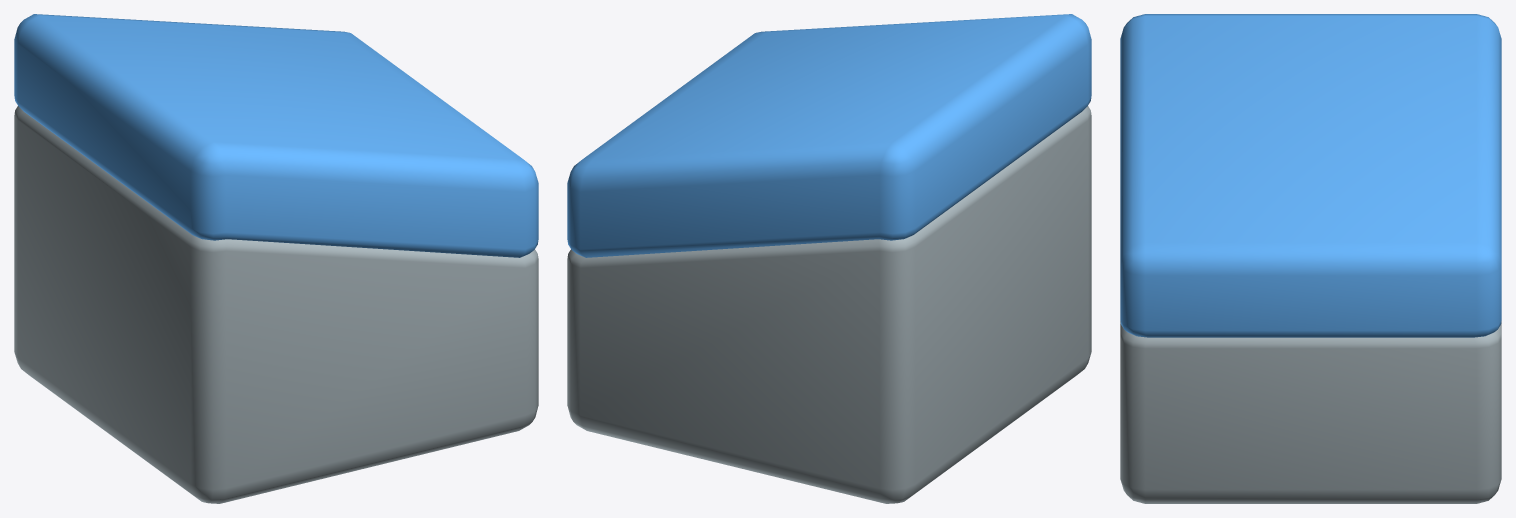
The model's file is tileSlopeMediumHigh_teamBlue.glb.
3 views of the same model, side by side, from view 1: azimuth 30°, elevation 25°; view 2: azimuth 150°, elevation 25°; view 3: azimuth 270°, elevation 25° (orthographic). The views are drawn at different scales.
Parts seen in each view (by area): view 1: tileSlopeMediumHigh_teamBlue; view 2: tileSlopeMediumHigh_teamBlue; view 3: tileSlopeMediumHigh_teamBlue.
Part boxes in pixels (x1=…): tileSlopeMediumHigh_teamBlue: x1=14, y1=14, x2=538, y2=503; tileSlopeMediumHigh_teamBlue: x1=567, y1=14, x2=1091, y2=503; tileSlopeMediumHigh_teamBlue: x1=1120, y1=14, x2=1501, y2=503.
Bounding box in the file's own units: 0.7 × 0.7 × 0.7.
